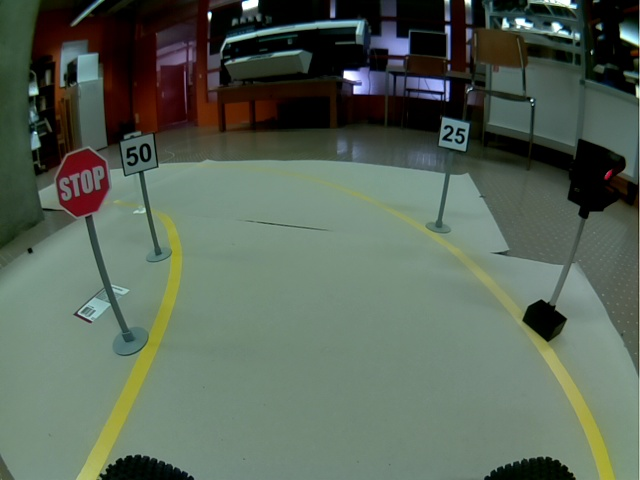speed25: (438, 115, 471, 153)
speed50: (119, 131, 159, 177)
stop: (54, 146, 112, 218)
trafficLightRed: (568, 139, 627, 212)
